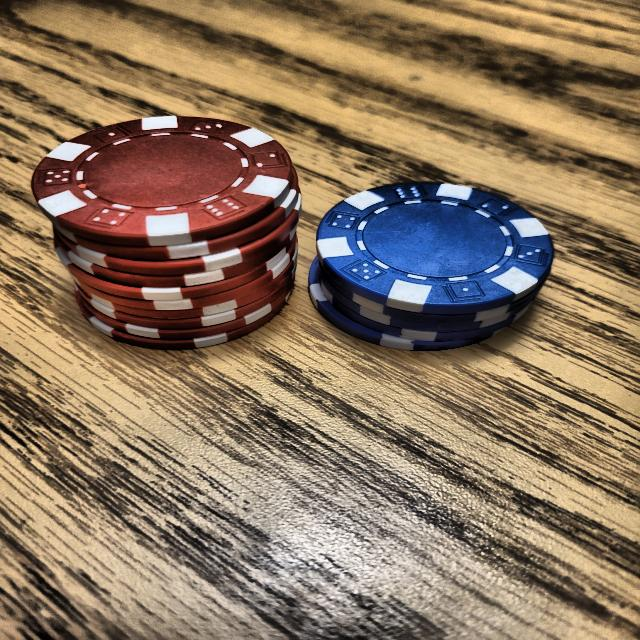Chip: (17, 96, 326, 366), (290, 169, 567, 379)
